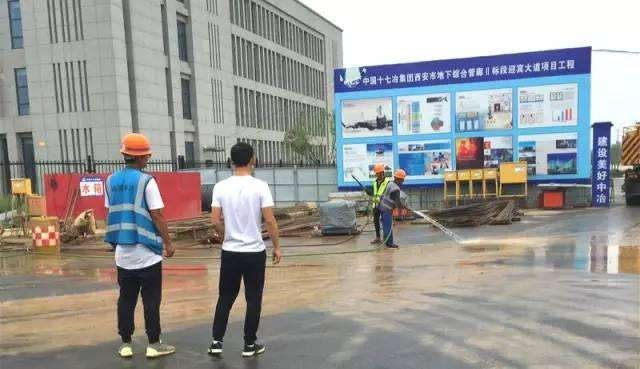none: (225, 140, 259, 178)
yellow: (117, 130, 155, 172), (391, 166, 408, 187), (372, 160, 387, 181)
